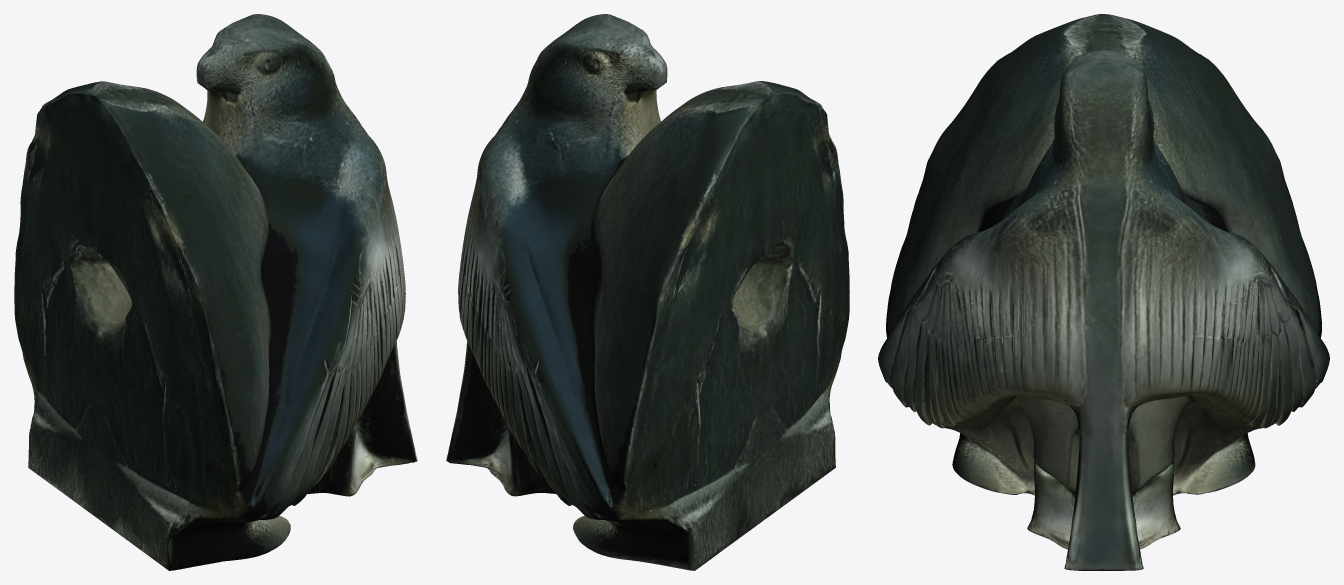
The model's file is falcon.glb.
3 renders of one model, left to right at view 1: azimuth 30°, elevation 25°; view 2: azimuth 150°, elevation 25°; view 3: azimuth 270°, elevation 25°, orthographic. The views are drawn at different scales.
Parts seen in each view (by area): view 1: tripo_node_35525f64-9372-4406-a184-c0beda67e9fb; view 2: tripo_node_35525f64-9372-4406-a184-c0beda67e9fb; view 3: tripo_node_35525f64-9372-4406-a184-c0beda67e9fb.
Part boxes in pixels (x1,y1,x2,y2): tripo_node_35525f64-9372-4406-a184-c0beda67e9fb: (14,14,417,570); tripo_node_35525f64-9372-4406-a184-c0beda67e9fb: (446,14,849,570); tripo_node_35525f64-9372-4406-a184-c0beda67e9fb: (878,14,1329,570).
Bounding box in the file's own units: 0.6868 × 0.9818 × 0.9041.
1 material, 1 textured.
